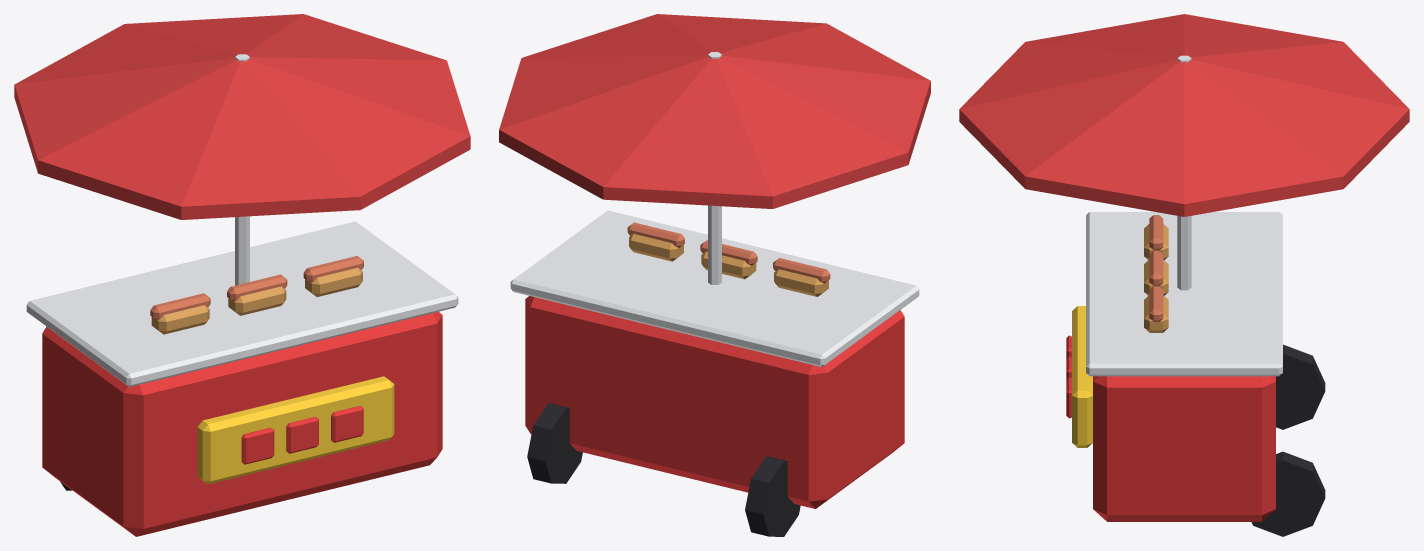
The model's file is HotDogStand.fbx.
3 renders of one model, left to right at view 1: azimuth 30°, elevation 25°; view 2: azimuth 150°, elevation 25°; view 3: azimuth 270°, elevation 25°, orthographic. The views are drawn at different scales.
Parts seen in each view (by area): view 1: HotDogStand; view 2: HotDogStand; view 3: HotDogStand.
Boxes of the visible parts, x1=… form: HotDogStand: x1=14, y1=14, x2=470, y2=536; HotDogStand: x1=499, y1=14, x2=930, y2=536; HotDogStand: x1=959, y1=14, x2=1409, y2=536.
Bounding box in the file's own units: 6.4 × 6.6 × 6.4.
1 material, 1 textured.
